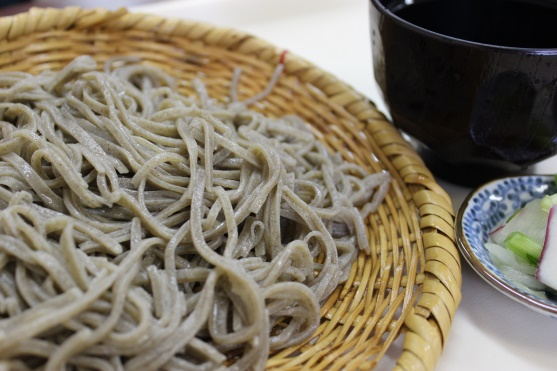Soba: (1, 54, 394, 365)
